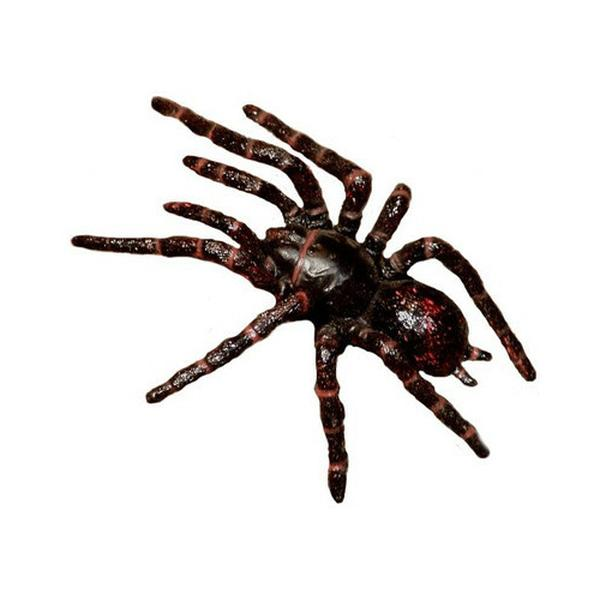Sydney_Funnel_Web_Spider: (72, 97, 536, 505)
